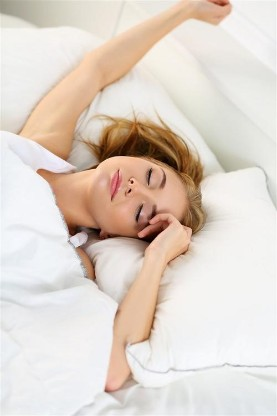闭眼: (131, 200, 145, 224), (142, 160, 155, 185)
